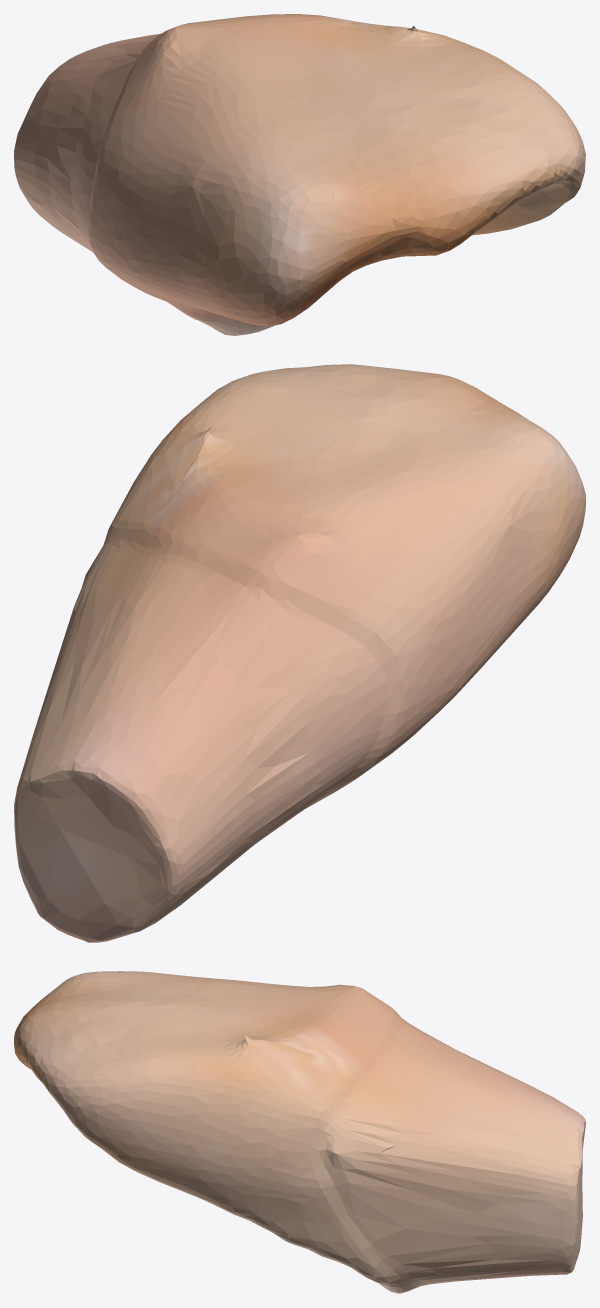
Rendered from local_t42_7780.OBJ.
The picture shows the model from 3 angles, top to bottom: view 1: azimuth 30°, elevation 25°; view 2: azimuth 150°, elevation 25°; view 3: azimuth 270°, elevation 25°; orthographic projection. The views are drawn at different scales.
Visible parts, largest first — view 1: ZBrush_defualt_group; view 2: ZBrush_defualt_group; view 3: ZBrush_defualt_group.
Part boxes in pixels (x1=…): ZBrush_defualt_group: x1=14, y1=14, x2=585, y2=335; ZBrush_defualt_group: x1=14, y1=364, x2=585, y2=942; ZBrush_defualt_group: x1=14, y1=971, x2=585, y2=1293.
Size of the model in its own units: 6.38 by 6.29 by 11.61.
Materials: 1 (1 with a texture image).
